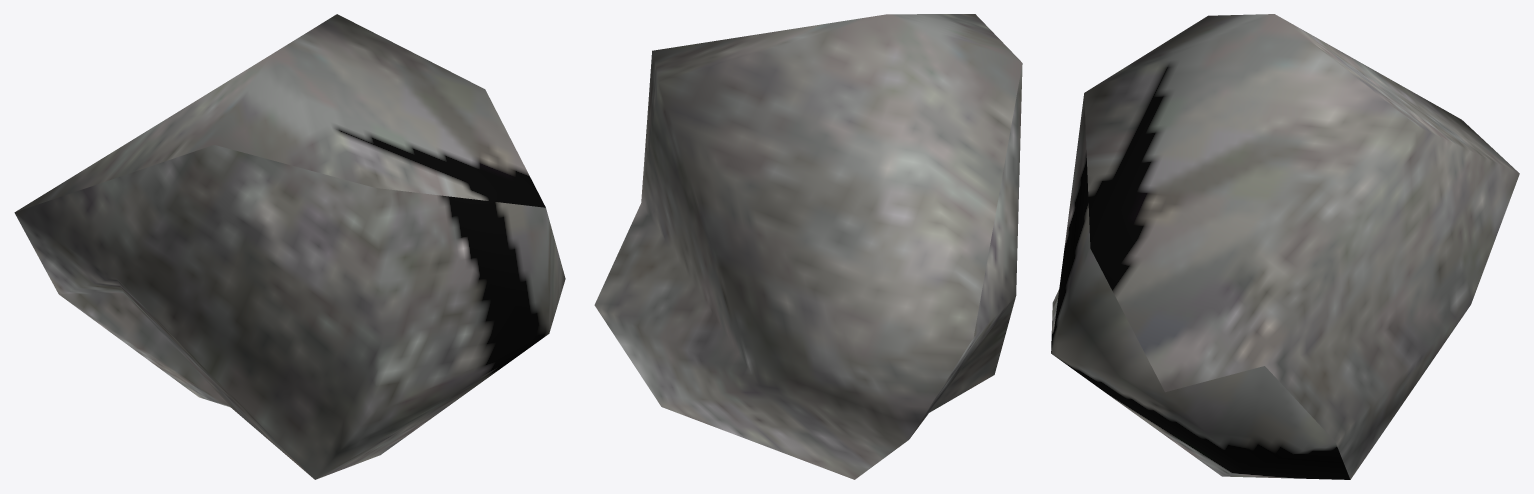
The model's file is asteroid7.fbx.
3 renders of one model, left to right at view 1: azimuth 30°, elevation 25°; view 2: azimuth 150°, elevation 25°; view 3: azimuth 270°, elevation 25°, orthographic. The views are drawn at different scales.
Visible parts, largest first — view 1: PipelineFBX; view 2: PipelineFBX; view 3: PipelineFBX.
Part boxes in pixels (x1,y1,x2,y2): PipelineFBX: (14,14,565,479); PipelineFBX: (594,14,1022,479); PipelineFBX: (1051,14,1519,479).
Bounding box in the file's own units: 79.44 × 74.76 × 75.66.
1 material, 1 textured.
